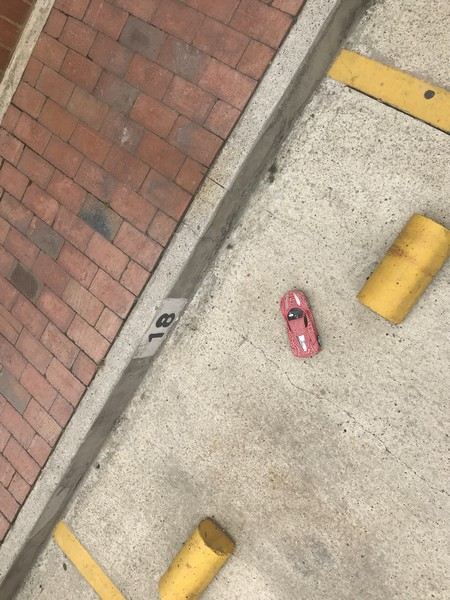RC: (281, 287, 327, 360)
